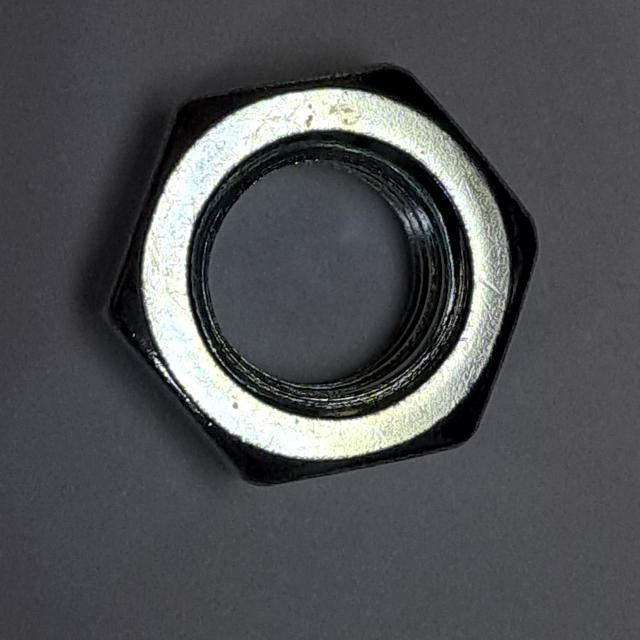Excellent: (79, 55, 547, 502)
